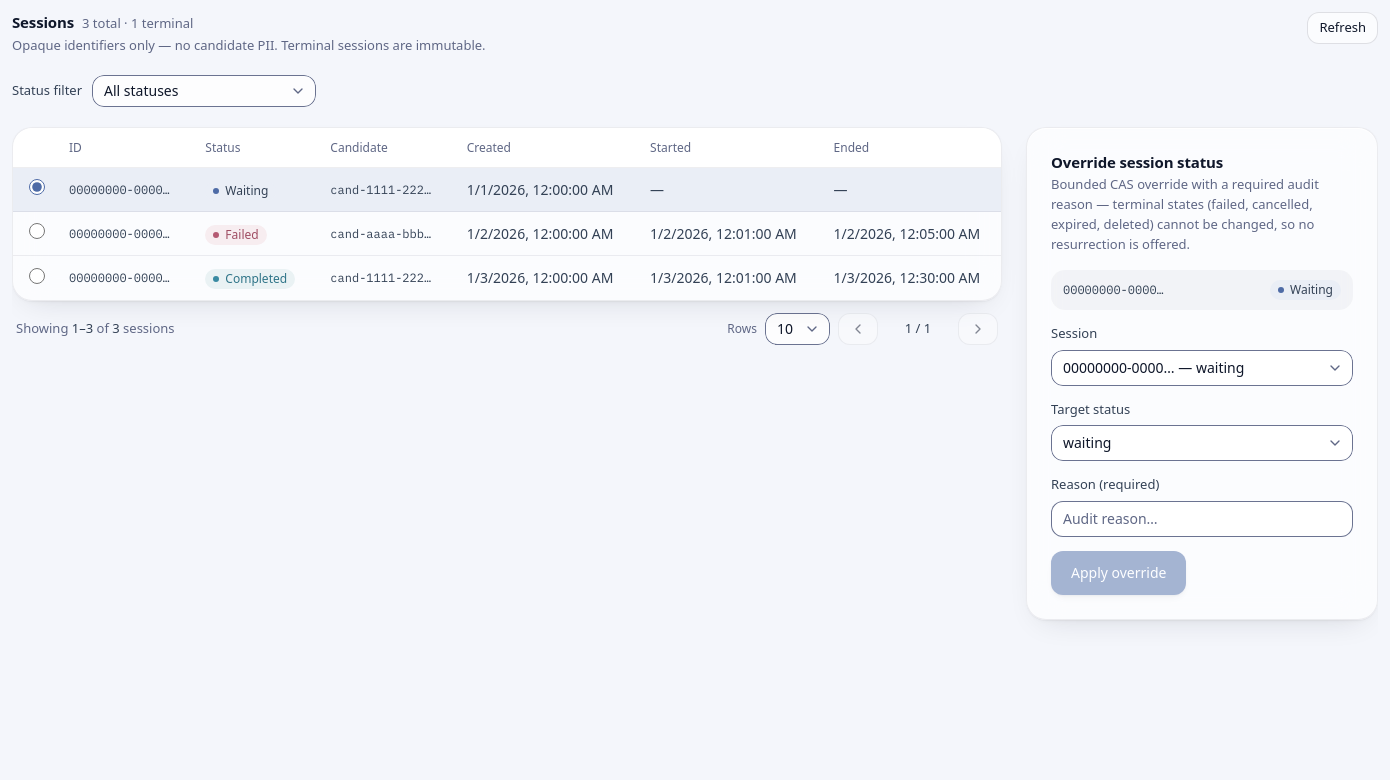
SessionsSection › applies an override only after confirmation, with a required reason
Expected: the heading "Override session status" is shown, x1=1051 y1=152 x2=1223 y2=172
Expected: the button "Apply override" is disabled, x1=1051 y1=550 x2=1186 y2=594
Type "Call completed off-hook" into the field labelled "Reason (required)".
click(1202, 518); type("Call completed off-hook")  # box x1=1051 y1=500 x2=1353 y2=536
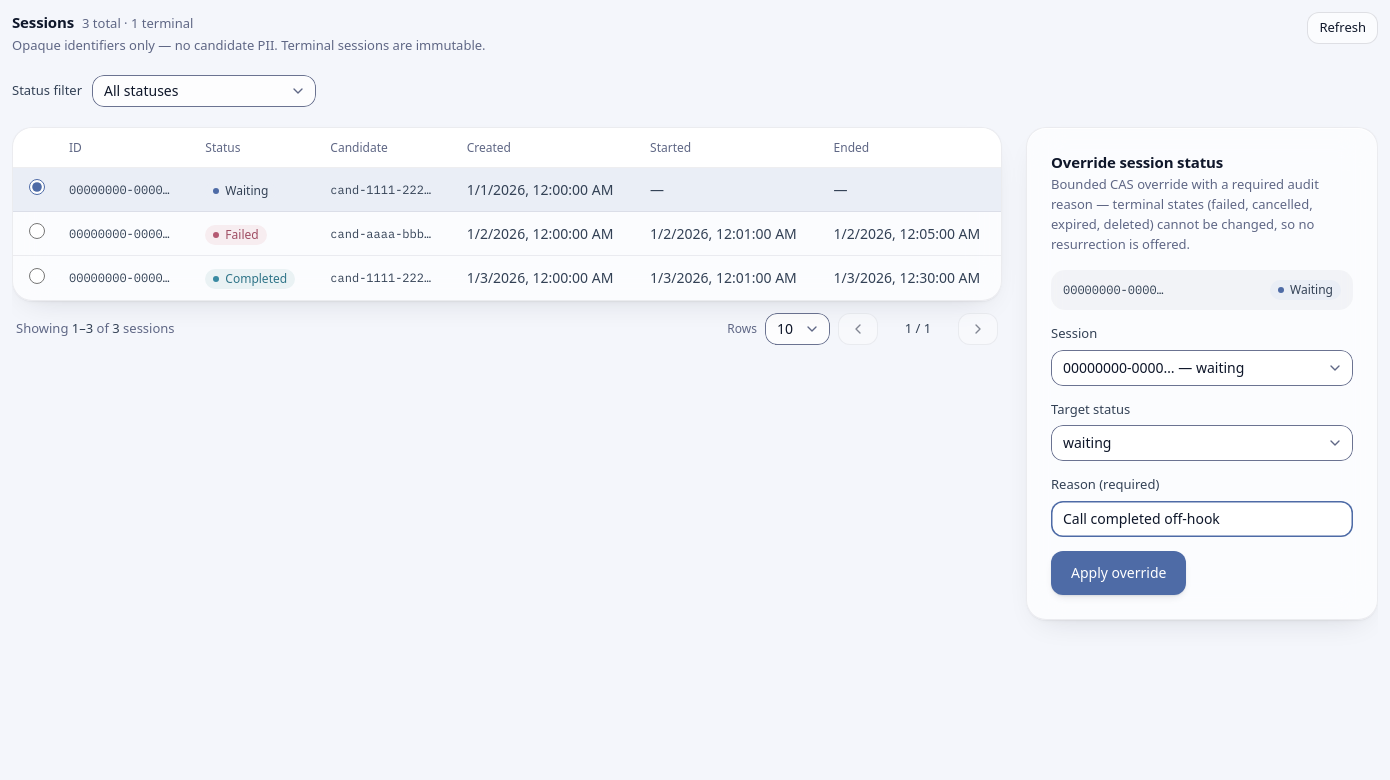
Click the button "Apply override".
click(1119, 572)  # box x1=1051 y1=550 x2=1186 y2=594
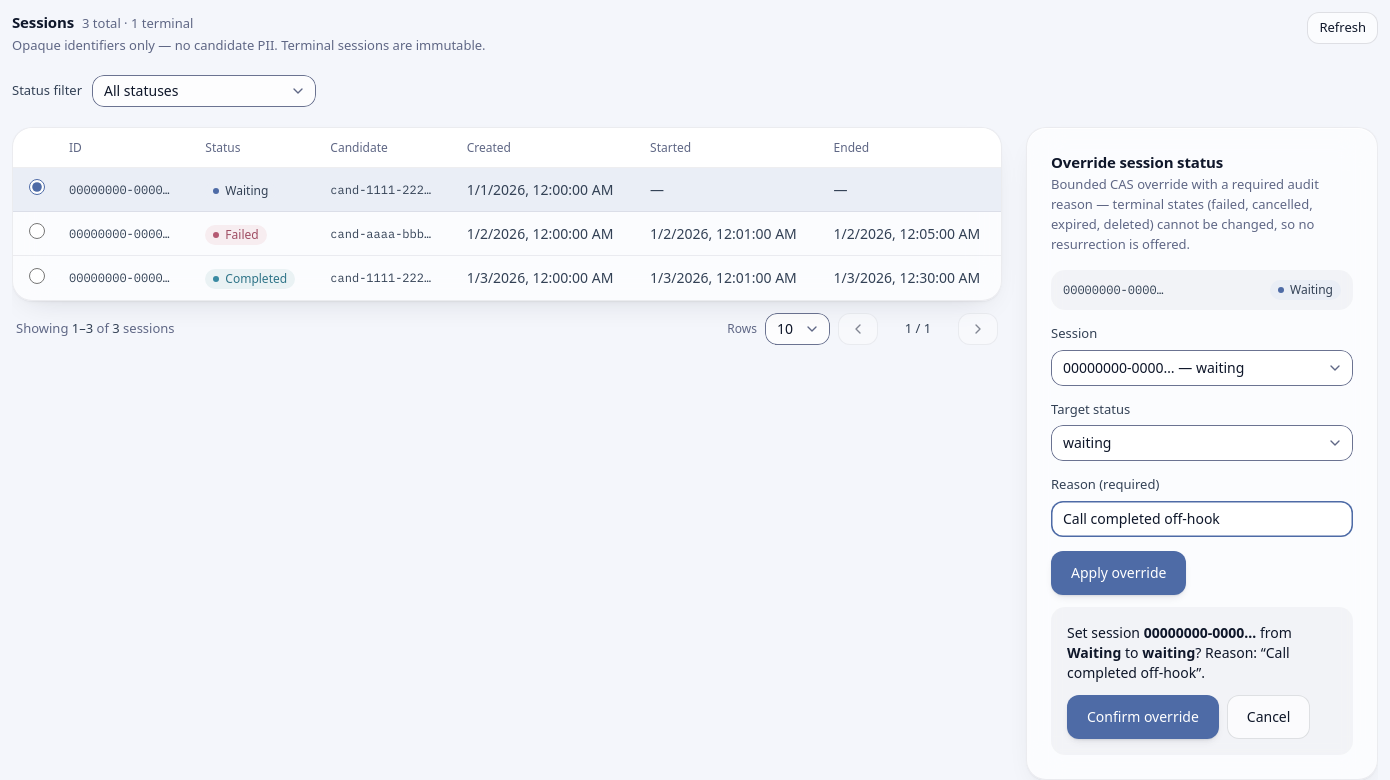
Now the text "Reason: “Call completed off-hook”" is shown, box x1=1067 y1=622 x2=1292 y2=682
Select "completed" in the dropdown labelled "Target status" at coordinates (1202, 443), box x1=1051 y1=425 x2=1353 y2=461
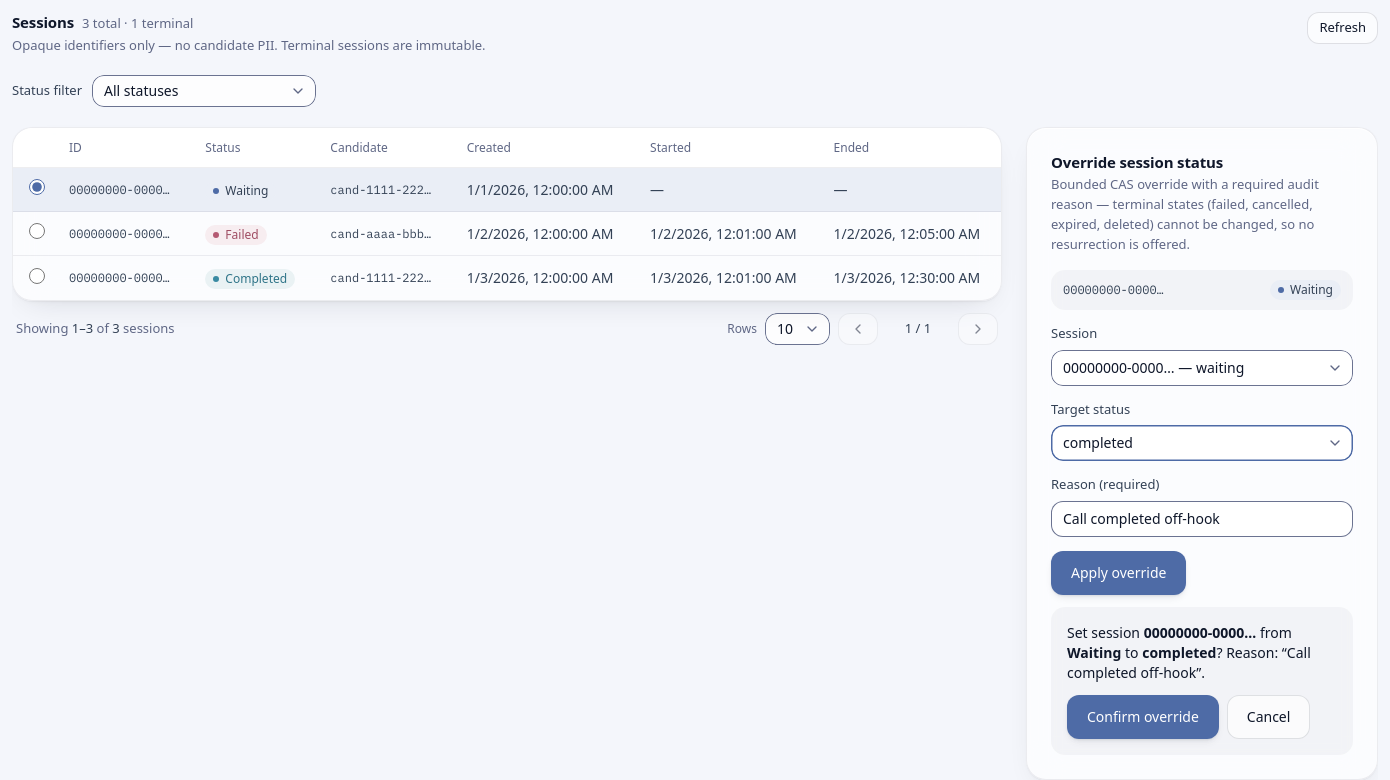
Click the button "Confirm override".
click(1143, 716)  # box x1=1067 y1=694 x2=1219 y2=738
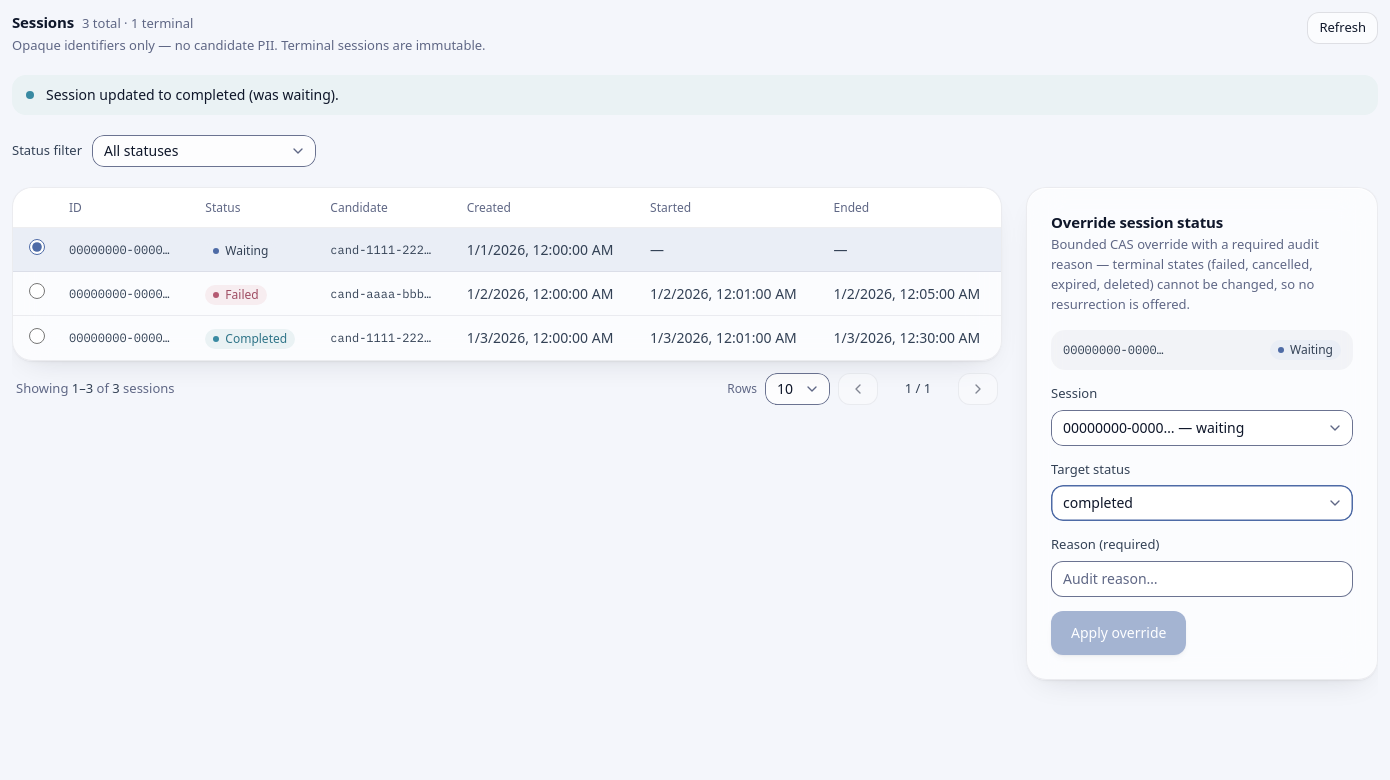
Now the text "Session updated to completed (was waiting)." is shown, box x1=46 y1=85 x2=339 y2=104
